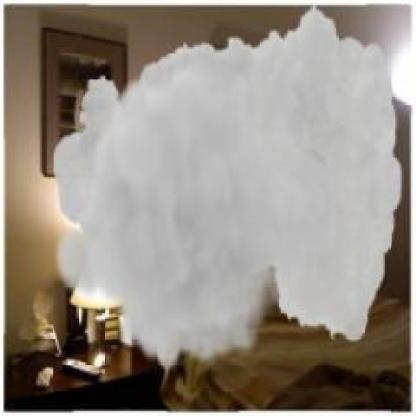Smoke: (51, 2, 403, 371)
